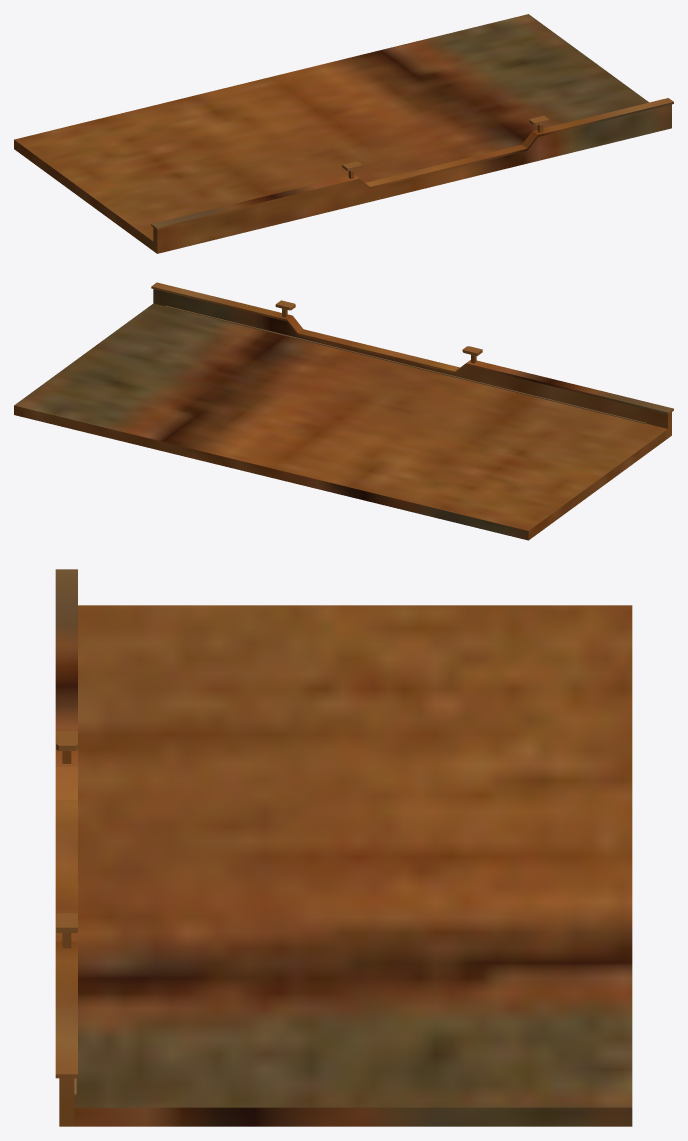
Rendered from deck001.fbx.
The picture shows the model from 3 angles, top to bottom: view 1: azimuth 30°, elevation 25°; view 2: azimuth 150°, elevation 25°; view 3: azimuth 270°, elevation 25°; orthographic projection. The views are drawn at different scales.
Visible parts, largest first — view 1: pCube4; view 2: pCube4; view 3: pCube4.
Boxes of the visible parts, x1=… form: pCube4: x1=14, y1=14, x2=673, y2=253; pCube4: x1=14, y1=282, x2=673, y2=540; pCube4: x1=55, y1=569, x2=632, y2=1126.
Size of the model in its own units: 4348 by 316 by 2099.
Materials: 3 (3 with a texture image).
